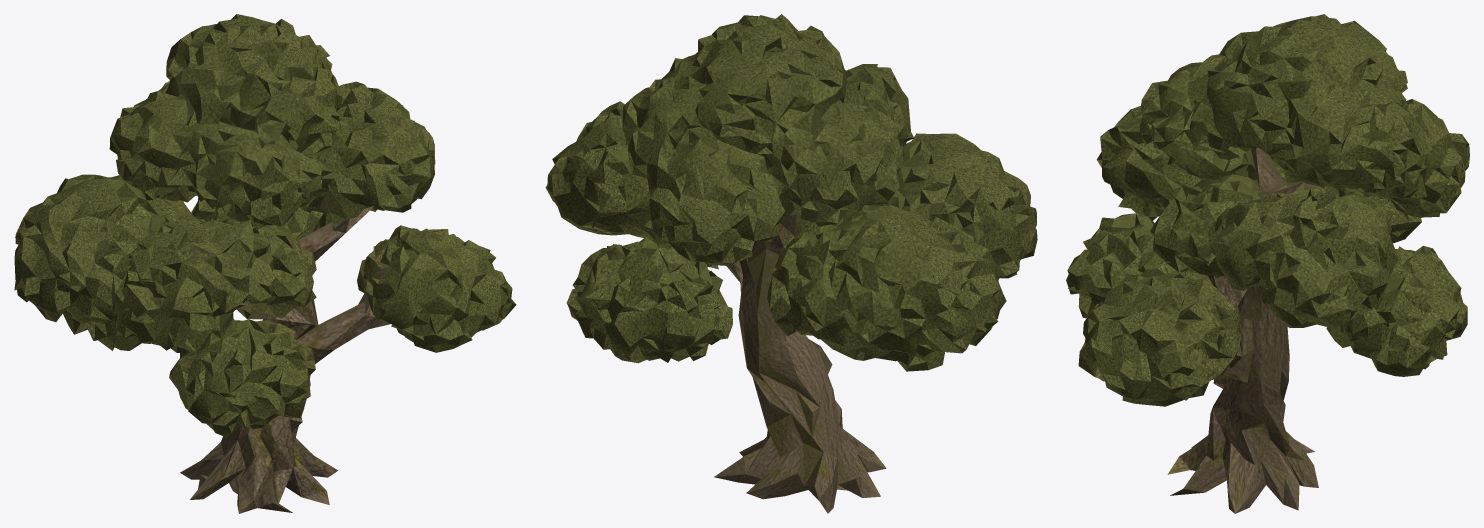
Rendered from arbol_adulto.glb.
3 renders of one model, left to right at view 1: azimuth 30°, elevation 25°; view 2: azimuth 150°, elevation 25°; view 3: azimuth 270°, elevation 25°, orthographic. The views are drawn at different scales.
Size of the model in its own units: 1.85 by 1.89 by 1.48.
1 material, 1 textured.
